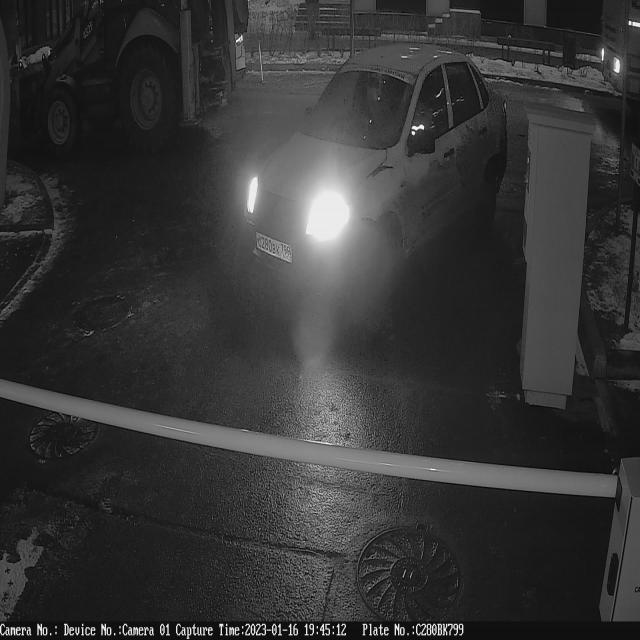car-plate-numbers: (254, 232, 295, 271)
